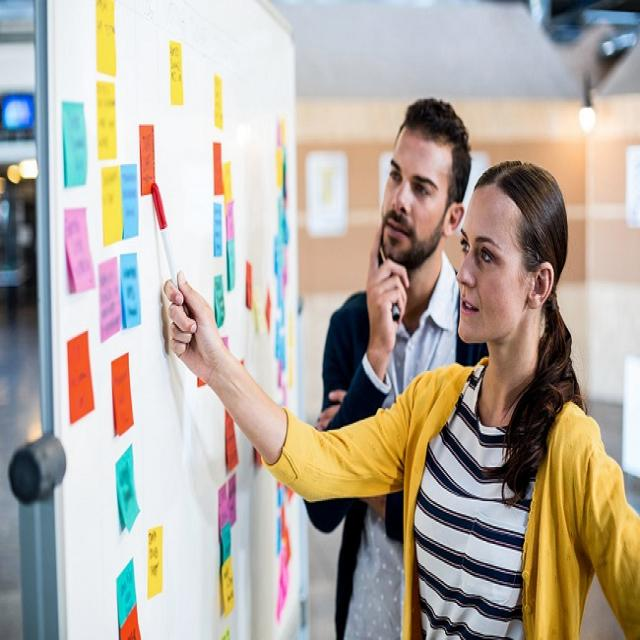adult: (151, 159, 640, 640), (308, 93, 474, 640)
